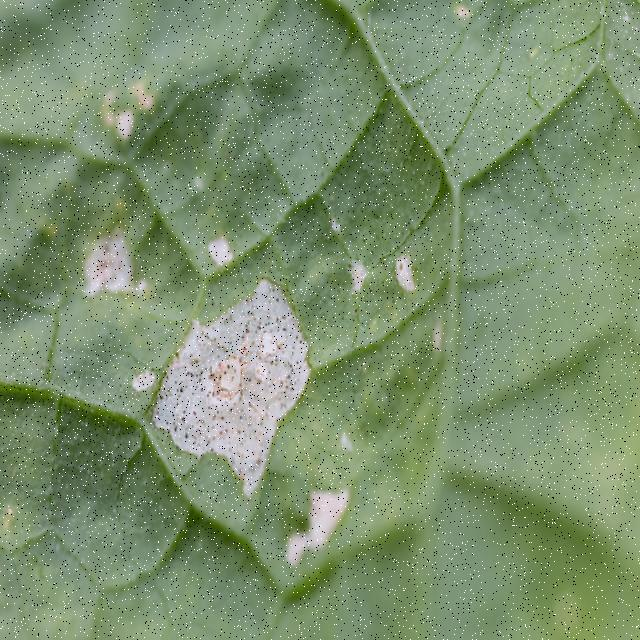Thrips: (119, 249, 349, 490)
